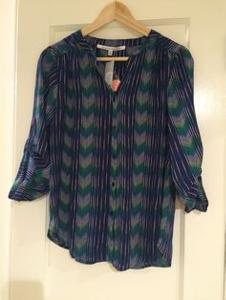C_blouse: (7, 23, 215, 276)
